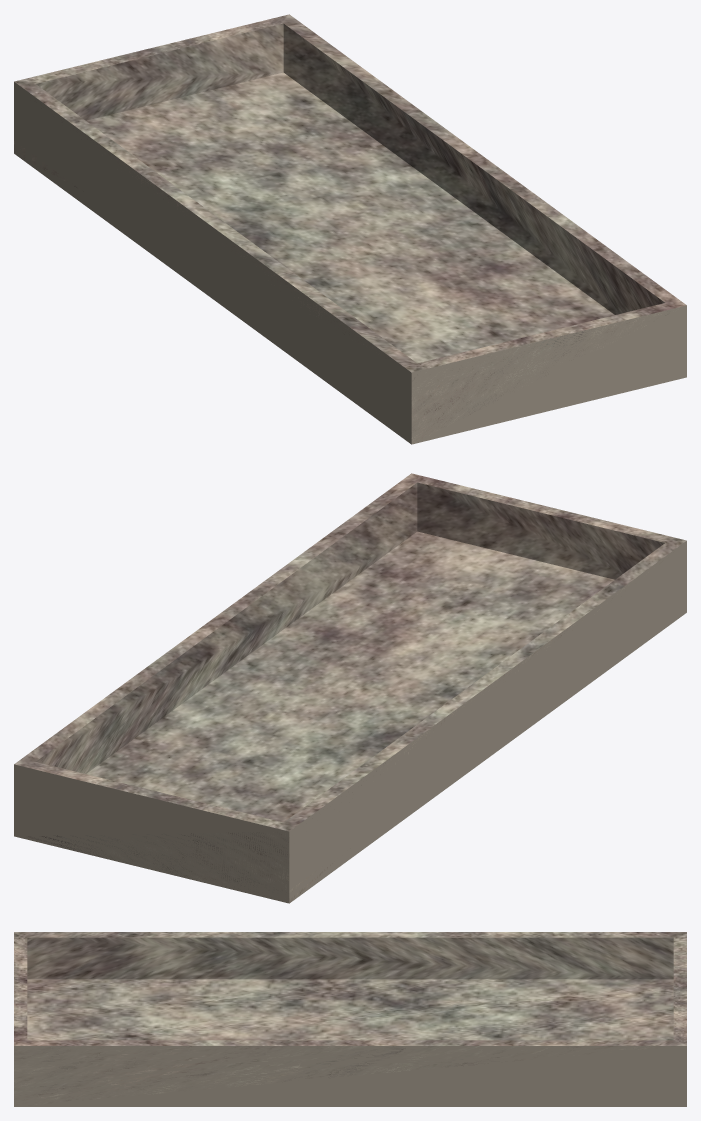
Rendered from table1.obj.
The picture shows the model from 3 angles, top to bottom: view 1: azimuth 30°, elevation 25°; view 2: azimuth 150°, elevation 25°; view 3: azimuth 270°, elevation 25°; orthographic projection. The views are drawn at different scales.
Parts seen in each view (by area): view 1: table_Cube; view 2: table_Cube; view 3: table_Cube.
Part boxes in pixels (left/top/right/bottom): table_Cube: left=14, top=14, right=686, bottom=444; table_Cube: left=14, top=473, right=686, bottom=903; table_Cube: left=14, top=932, right=686, bottom=1106.
Bounding box in the file's own units: 4 × 1 × 10.
Materials: 1 (1 with a texture image).
